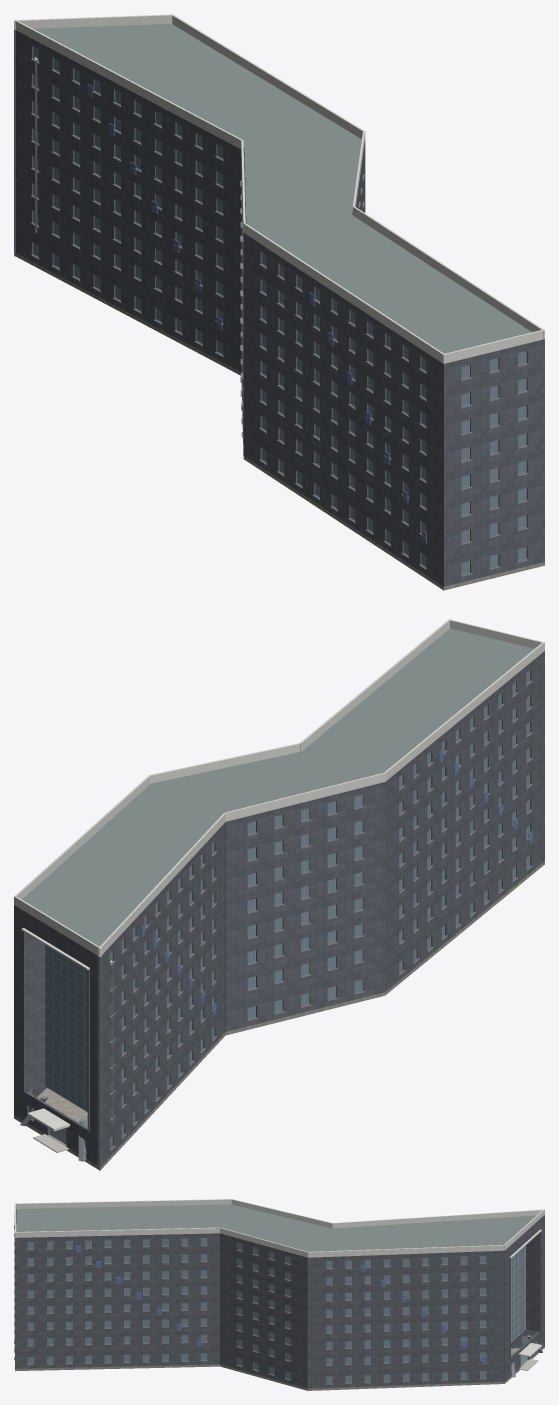
The picture shows the model from 3 angles, top to bottom: view 1: azimuth 30°, elevation 25°; view 2: azimuth 150°, elevation 25°; view 3: azimuth 270°, elevation 25°; orthographic projection. The views are drawn at different scales.
Parts seen in each view (by area): view 1: elim2__wall, elim2__roof, elim2__glass, elim2__cap, elim2__frame, elim2__band, elim2__plinth, elim2__blue-panel, elim2__foundation; view 2: elim2__wall, elim2__roof, elim2__cap, elim2__glass, elim2__curtainglass, elim2__frame, elim2__band, elim2__plinth, elim2__mullion, elim2__blue-panel, elim2__foundation; view 3: elim2__wall, elim2__roof, elim2__glass, elim2__cap, elim2__frame, elim2__band, elim2__plinth, elim2__curtainglass, elim2__foundation, elim2__blue-panel, elim2__mullion.
Boxes of the visible parts, left/top/right/bottom form: elim2__wall: left=14, top=30, right=544, bottom=586; elim2__roof: left=33, top=23, right=531, bottom=353; elim2__glass: left=33, top=47, right=526, bottom=573; elim2__cap: left=14, top=14, right=544, bottom=363; elim2__frame: left=33, top=47, right=526, bottom=574; elim2__band: left=30, top=58, right=528, bottom=576; elim2__plinth: left=15, top=253, right=544, bottom=589; elim2__blue-panel: left=87, top=84, right=426, bottom=544; elim2__foundation: left=14, top=252, right=544, bottom=590; elim2__wall: left=14, top=651, right=544, bottom=1166; elim2__roof: left=22, top=628, right=534, bottom=946; elim2__cap: left=14, top=619, right=544, bottom=1129; elim2__glass: left=29, top=671, right=529, bottom=1150; elim2__curtainglass: left=45, top=945, right=87, bottom=1111; elim2__frame: left=28, top=670, right=529, bottom=1151; elim2__band: left=20, top=681, right=532, bottom=1161; elim2__plinth: left=14, top=861, right=544, bottom=1169; elim2__mullion: left=45, top=945, right=87, bottom=1111; elim2__blue-panel: left=141, top=750, right=532, bottom=1016; elim2__foundation: left=14, top=864, right=544, bottom=1170; elim2__wall: left=14, top=1209, right=544, bottom=1388; elim2__roof: left=16, top=1204, right=536, bottom=1251; elim2__glass: left=28, top=1238, right=537, bottom=1383; elim2__cap: left=14, top=1199, right=544, bottom=1356; elim2__frame: left=27, top=1238, right=511, bottom=1383; elim2__band: left=14, top=1225, right=542, bottom=1384; elim2__plinth: left=15, top=1347, right=544, bottom=1390; elim2__curtainglass: left=511, top=1246, right=525, bottom=1341; elim2__foundation: left=15, top=1346, right=544, bottom=1390; elim2__blue-panel: left=75, top=1245, right=487, bottom=1363; elim2__mullion: left=511, top=1245, right=525, bottom=1342.
Bounding box in the file's own units: 24.91 × 30.13 × 105.
15 materials, 4 textured.
